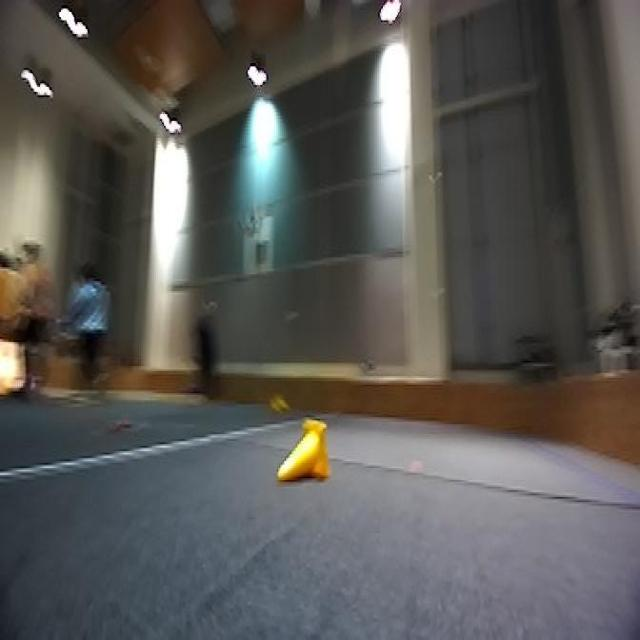frc_cone: (278, 419, 330, 487), (267, 390, 294, 419)
